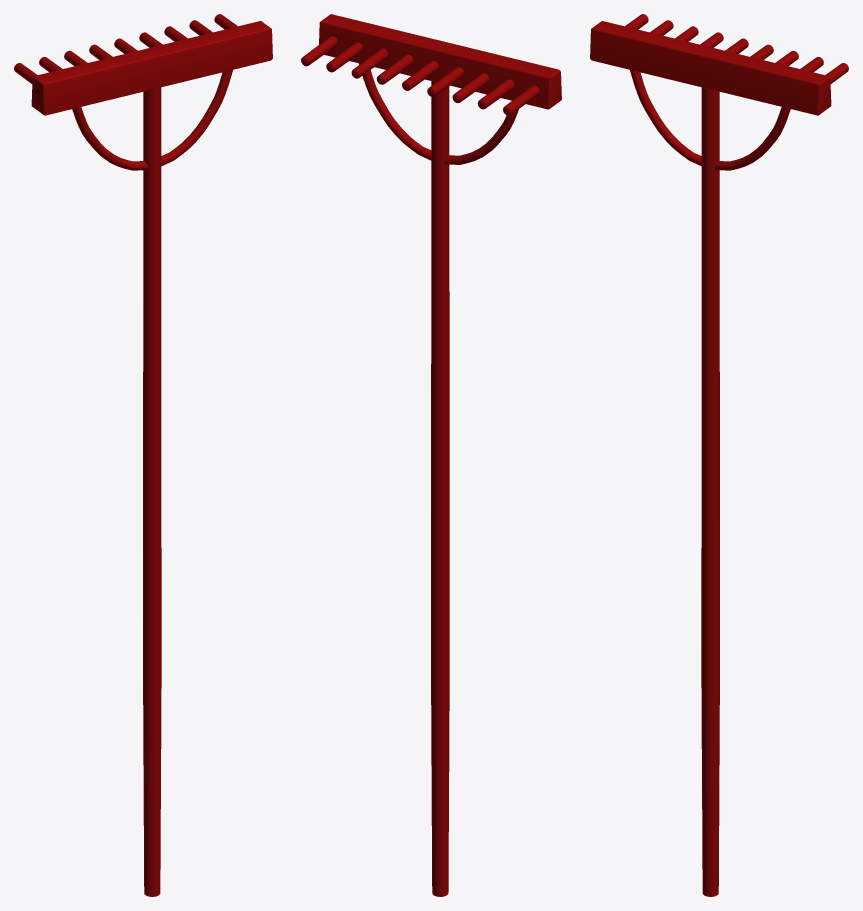
The model's file is SM_Hoe_B.gltf.
3 renders of one model, left to right at view 1: azimuth 30°, elevation 25°; view 2: azimuth 150°, elevation 25°; view 3: azimuth 330°, elevation 25°, orthographic.
Visible parts, largest first — view 1: SM_Hoe_B; view 2: SM_Hoe_B; view 3: SM_Hoe_B.
Part boxes in pixels (<box>): SM_Hoe_B: <box>14,14,272,896</box>; SM_Hoe_B: <box>301,14,561,896</box>; SM_Hoe_B: <box>590,14,848,896</box>.
Bounding box in the file's own units: 0.574 × 2.01 × 0.1767.
